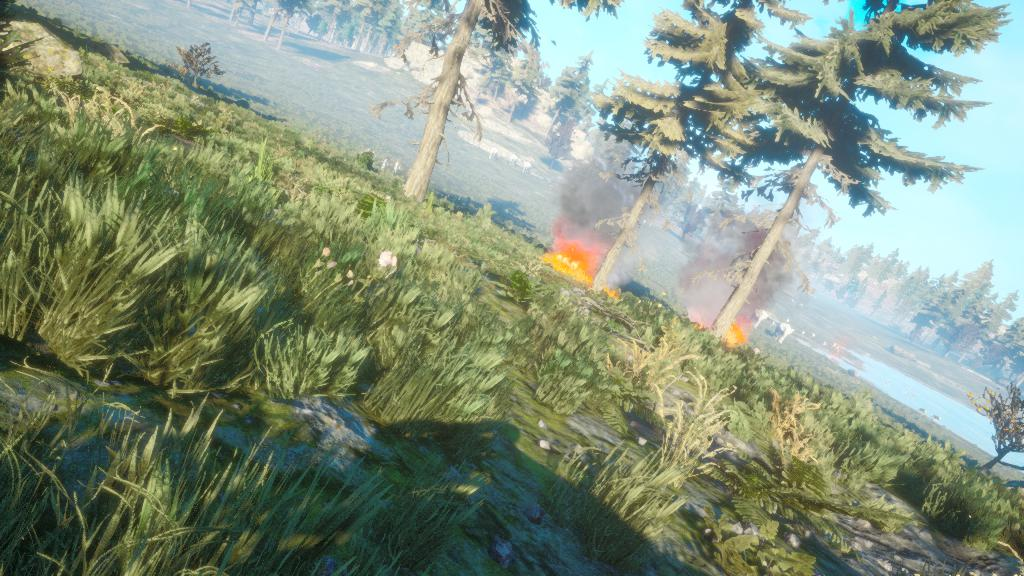Fire: (539, 220, 633, 306), (683, 292, 754, 356)
elephant: (744, 309, 773, 332), (771, 320, 796, 346), (484, 145, 504, 164), (505, 151, 520, 169), (518, 161, 536, 175)
human: (387, 158, 406, 177), (377, 155, 390, 176)
smoke: (671, 221, 819, 306), (555, 134, 667, 242)
